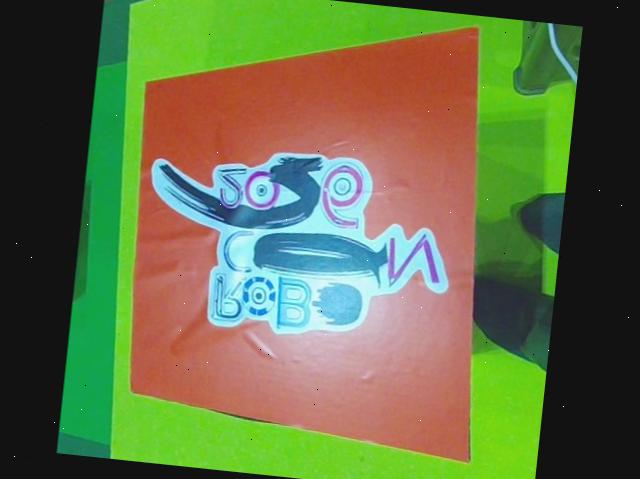R1: (103, 0, 519, 465)
